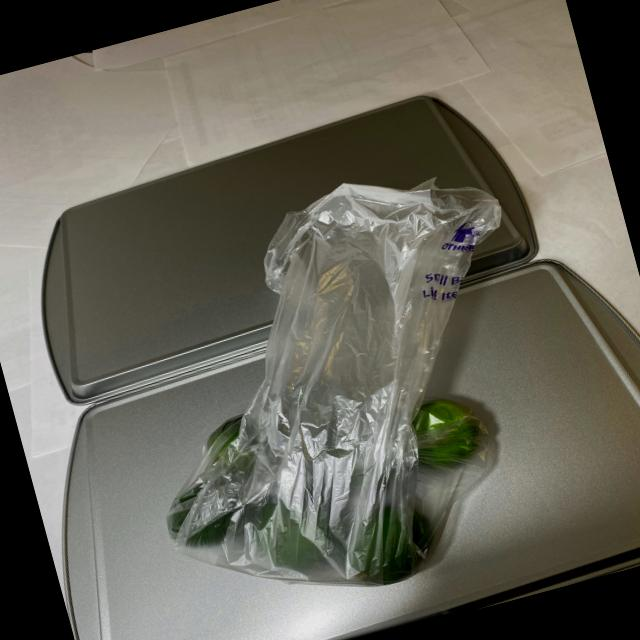lemon: (141, 352, 517, 628)
